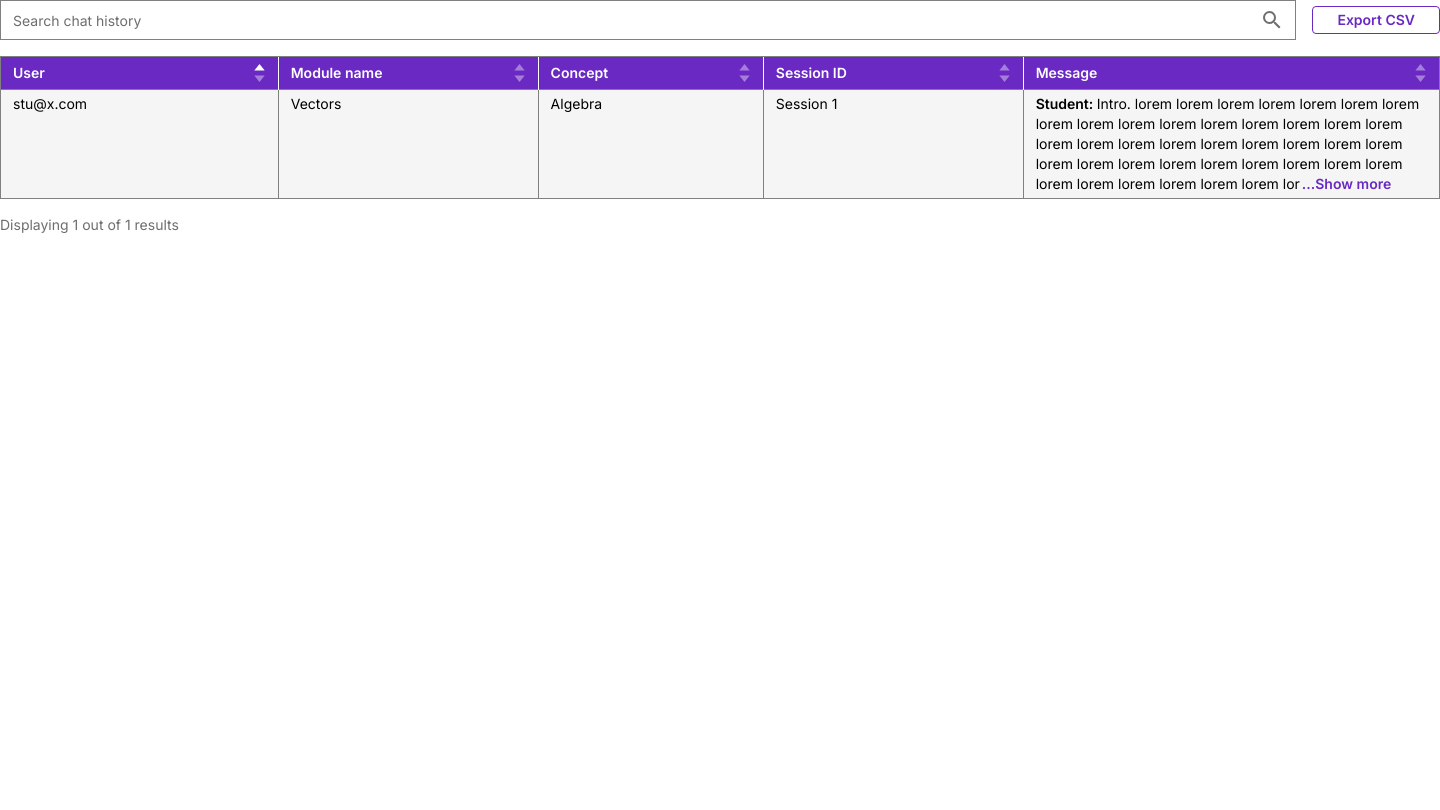
Scenario: ChatHistoryTab › previews a long message (250 chars) with '...Show more' that opens the full text in a footer-less modal
Click the button "...Show more" at [1347, 184], box x1=1302 y1=174 x2=1391 y2=194
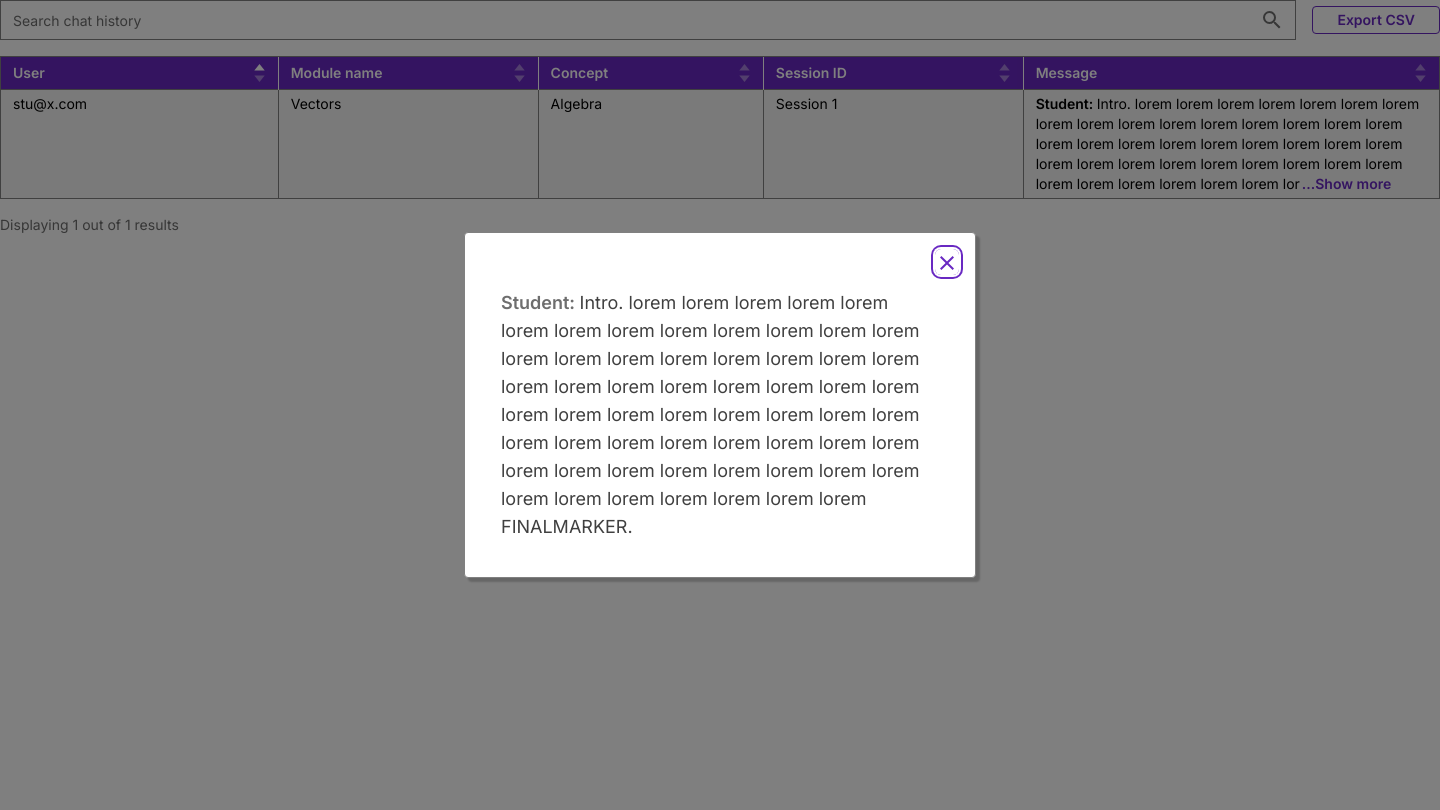
Result: the text "FINALMARKER" is shown at x1=501 y1=292 x2=925 y2=537
